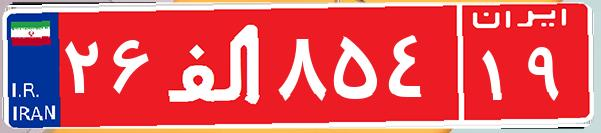1: (475, 38, 525, 113)
2: (57, 26, 110, 107)
4: (385, 28, 445, 110)
5: (330, 28, 385, 110)
6: (110, 28, 158, 105)
8: (273, 28, 330, 110)
9: (525, 38, 570, 115)
الف: (158, 15, 273, 115)
